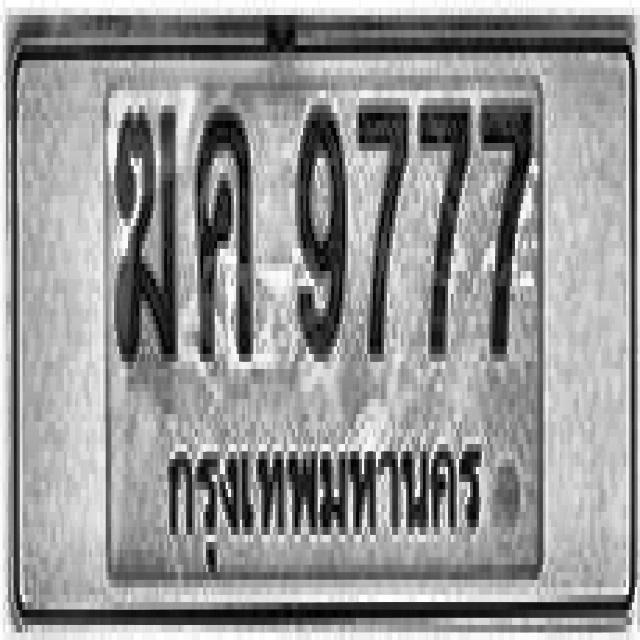license-plate: (12, 40, 635, 619)
